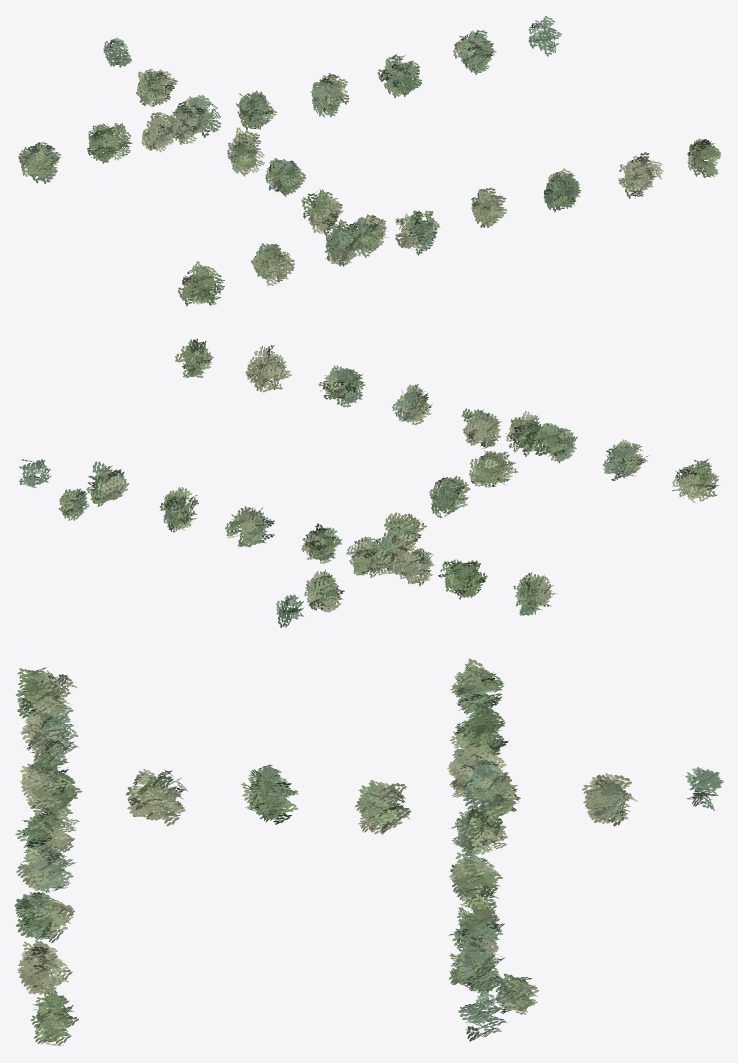
The model's file is campus-tree-2_-1-far.glb.
3 views of the same model, one above another, from view 1: azimuth 30°, elevation 25°; view 2: azimuth 150°, elevation 25°; view 3: azimuth 270°, elevation 25° (orthographic). The views are drawn at different scales.
Visible parts, largest first — view 1: Campus leaf canopy; view 2: Campus leaf canopy; view 3: Campus leaf canopy.
Part boxes in pixels (x1,y1,x2,y2): Campus leaf canopy: (18, 16, 721, 306); Campus leaf canopy: (19, 338, 721, 628); Campus leaf canopy: (14, 658, 723, 1045).
Bounding box in the file's own units: 84.25 × 8.15 × 71.46.
1 material, 1 textured.
